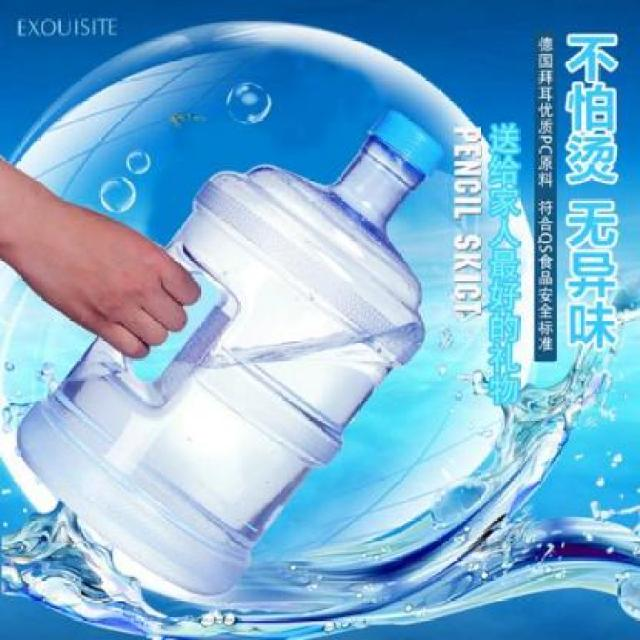coolerbottle: (8, 106, 446, 602)
